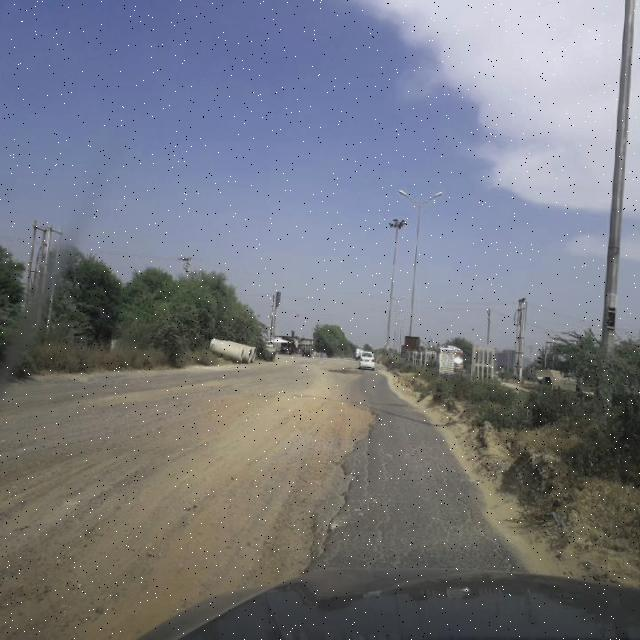D00: (408, 428, 503, 568), (337, 424, 396, 528)
D40: (3, 387, 381, 626)
